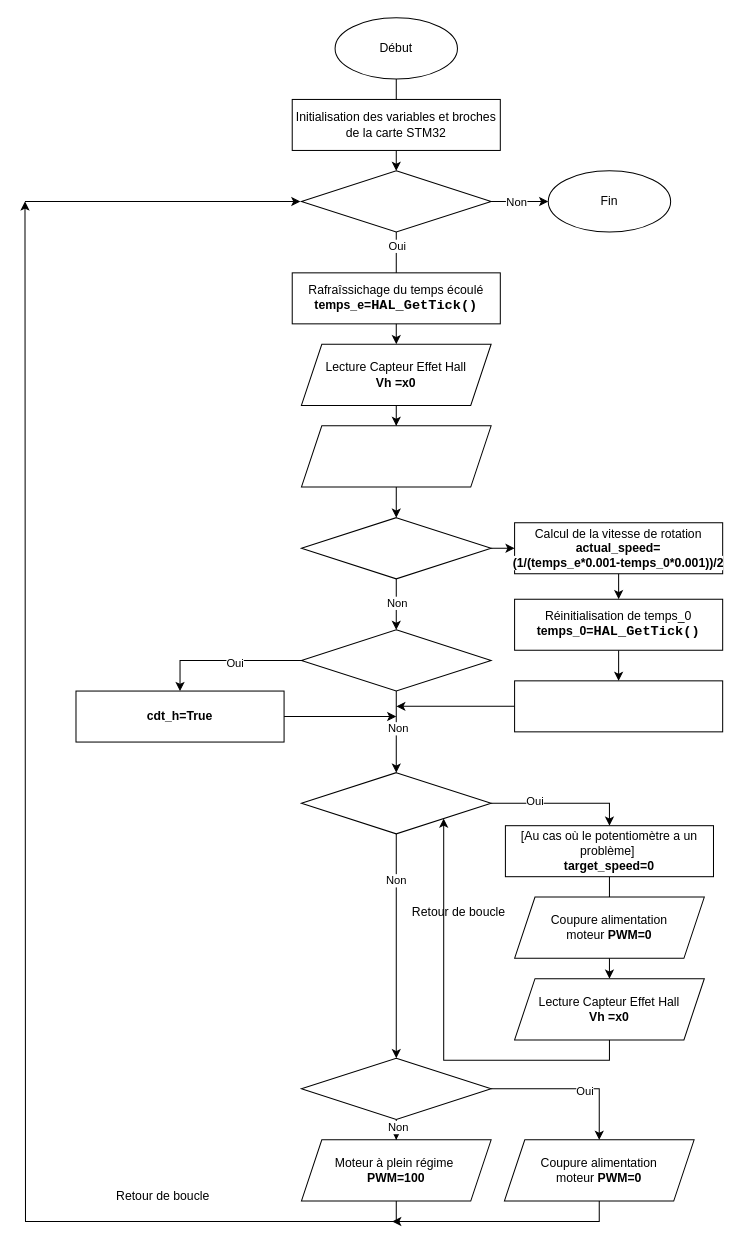
This 742x1247 diagram has some shape labels left out. The centre of each missing label's shape, as x and y in pixels:
cdt_h=False: pixel 618 706
if target_speed >= actual_speed: pixel 395 1088
if Vh<=2200 and cdt_h is True: pixel 395 548
if Vh>=2400 and cdt_h is False: pixel 395 660
Lecture Nouvelle commande de vitesse (potentiomètre) target_speed = x1: pixel 395 456
Tant que True*: pixel 395 201
Tant que Vh>=3060 ou actual_speed >= 60: pixel 395 803
